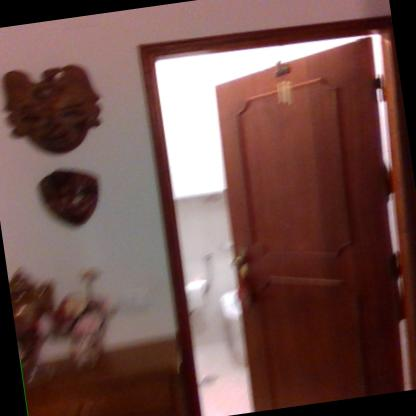semi: (125, 0, 415, 415)
